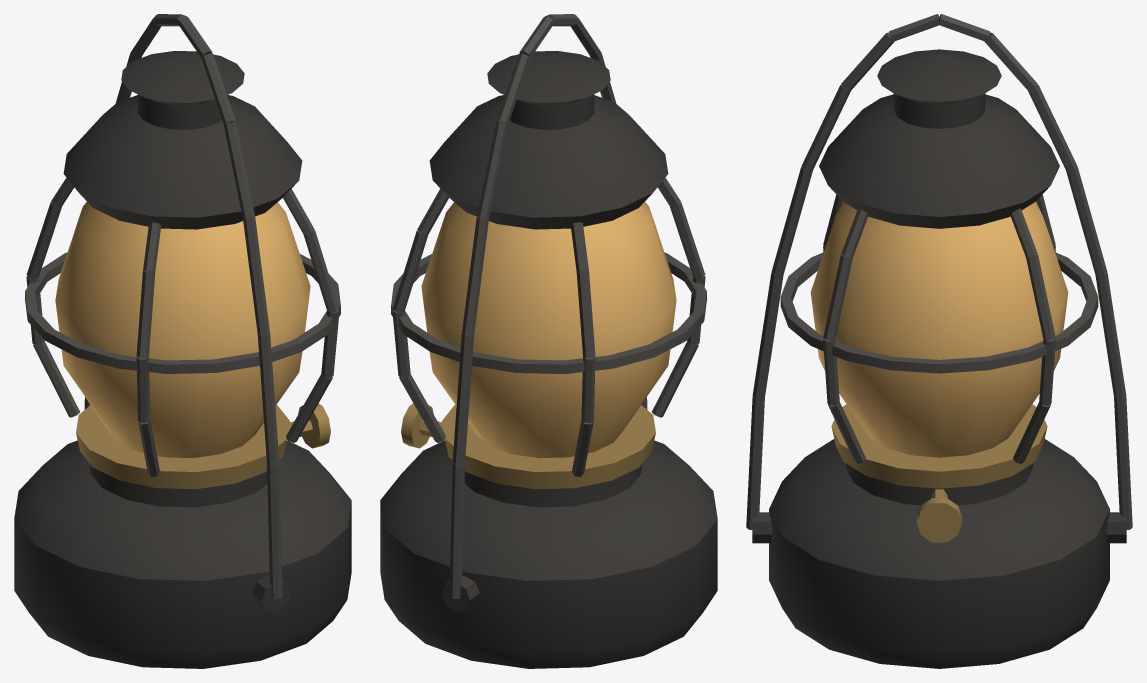
3 renders of one model, left to right at view 1: azimuth 30°, elevation 25°; view 2: azimuth 150°, elevation 25°; view 3: azimuth 270°, elevation 25°, orthographic.
Visible parts, largest first — view 1: C16_frame, C16_glass; view 2: C16_frame, C16_glass; view 3: C16_frame, C16_glass.
Boxes of the visible parts, x1,y1,x2,y2 form: C16_frame: (14,14,351,668); C16_glass: (55,202,310,458); C16_frame: (380,14,717,668); C16_glass: (421,202,676,458); C16_frame: (746,14,1132,668); C16_glass: (810,201,1068,457).
Bounding box in the file's own units: 0.164 × 0.3128 × 0.186.
